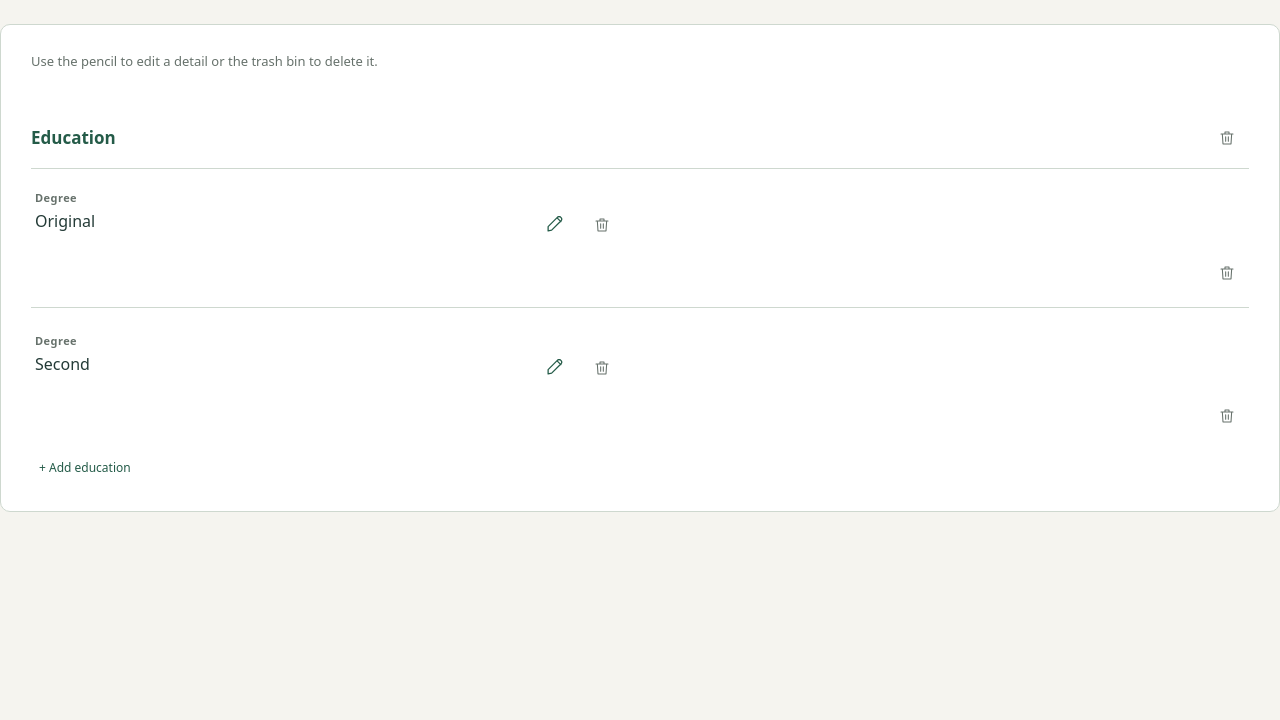
Test case: edits discovered nested fields and adds/removes array entries without disturbing siblings
Click the button named "Edit Degree" in the row of "Original" at coordinates (554, 225), box [532,203,576,247]
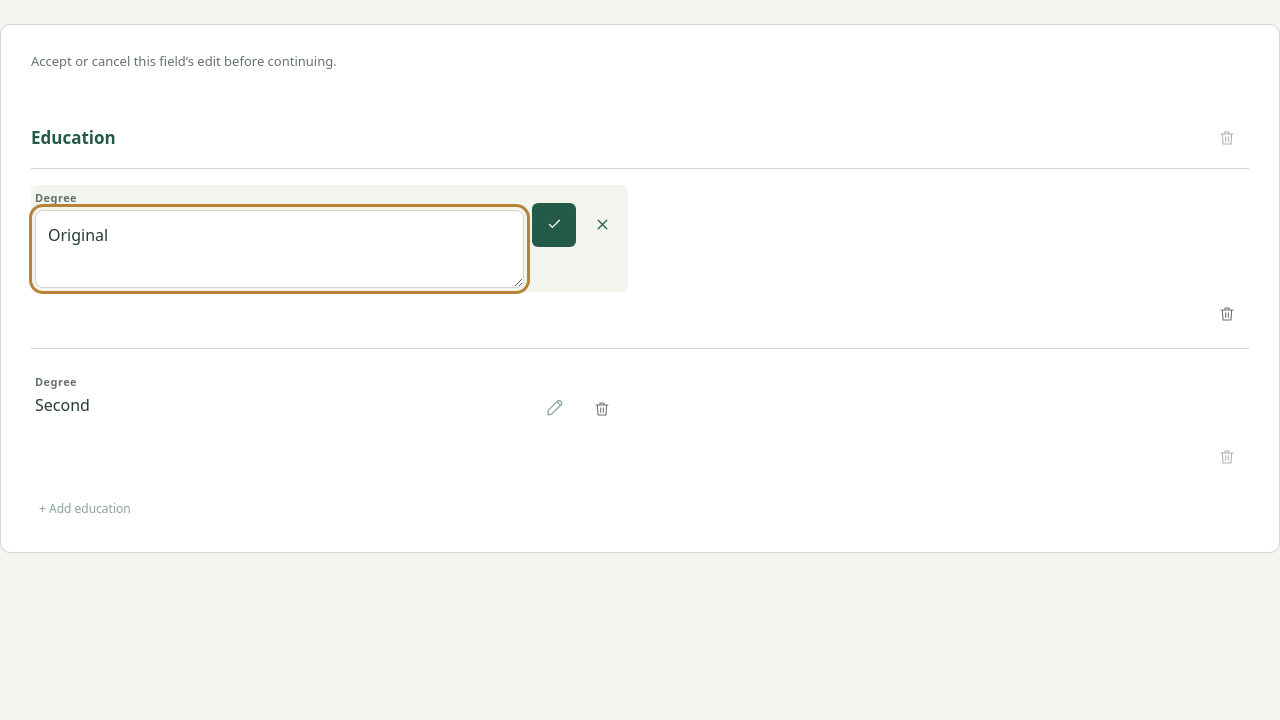
Replace the text in the text box labelled "Degree" with "Corrected" at coordinates (280, 249), box [35,210,524,288]
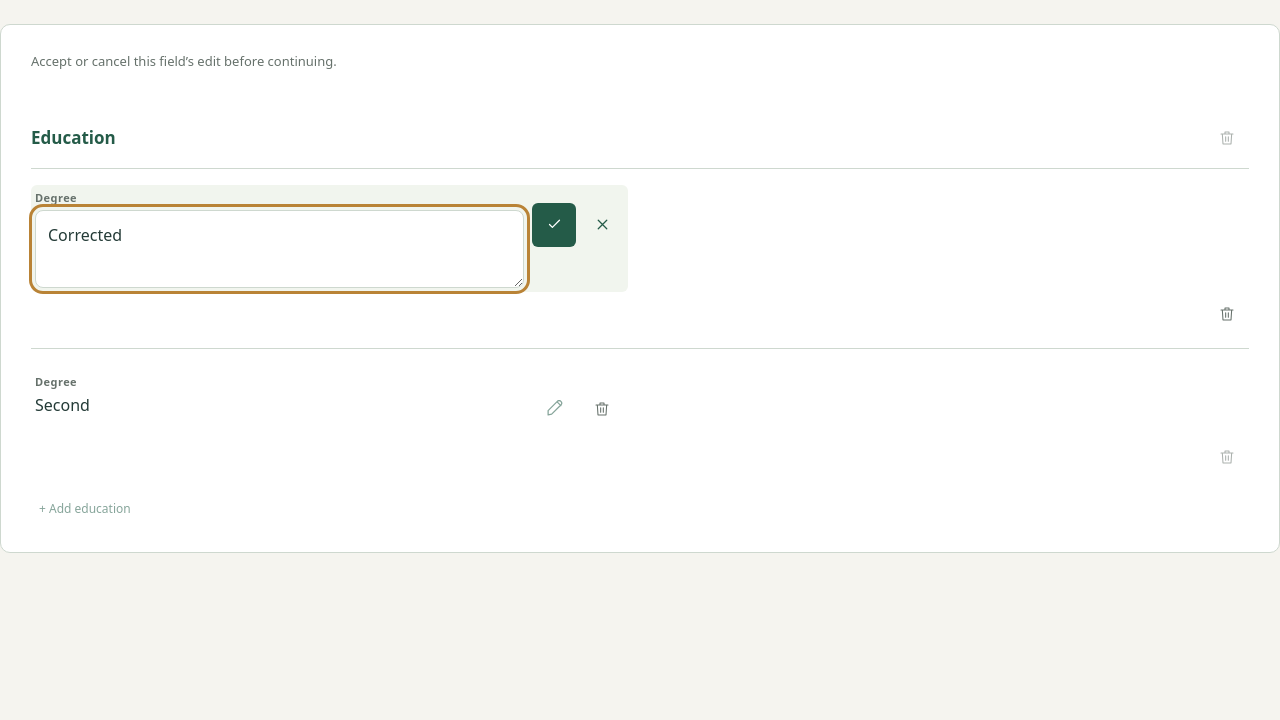
Expected: the button named "Delete Education 1" is disabled, [1205,292,1249,336]
Click the button named "Accept Degree change" at coordinates (554, 225), box [532,203,576,247]
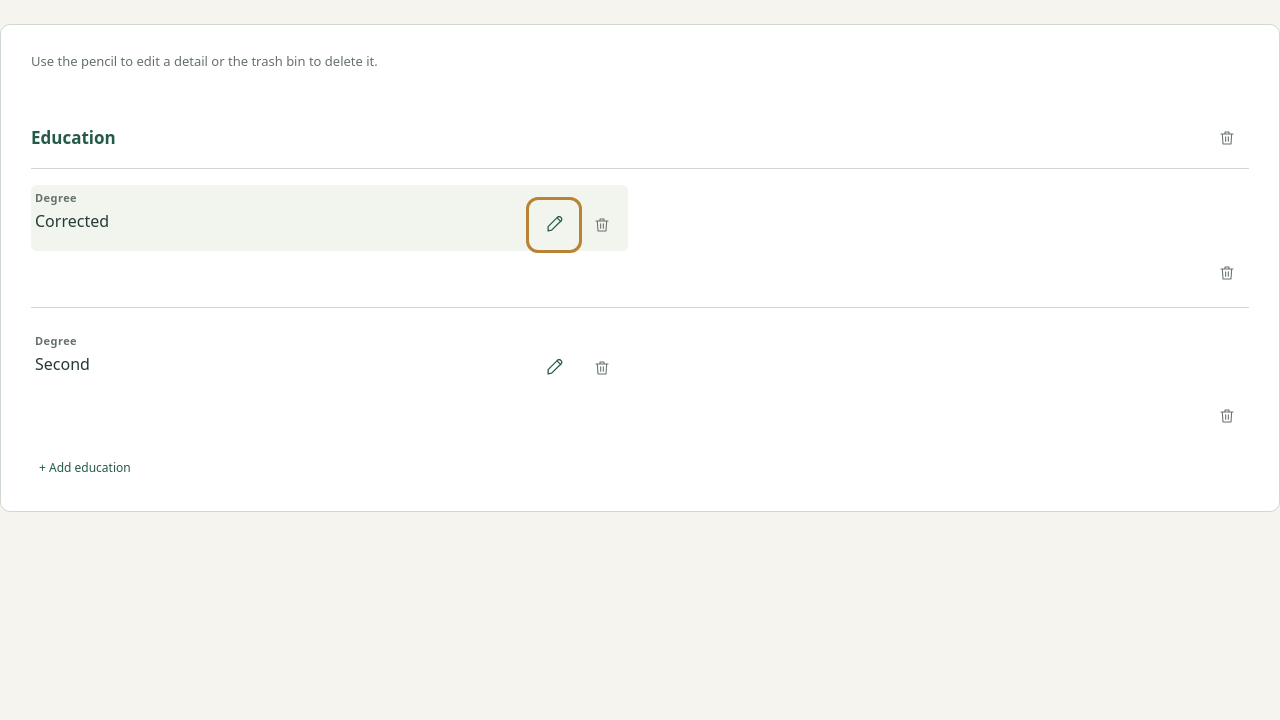
Click the button "+ Add education" at coordinates (85, 467), box [31,454,139,481]
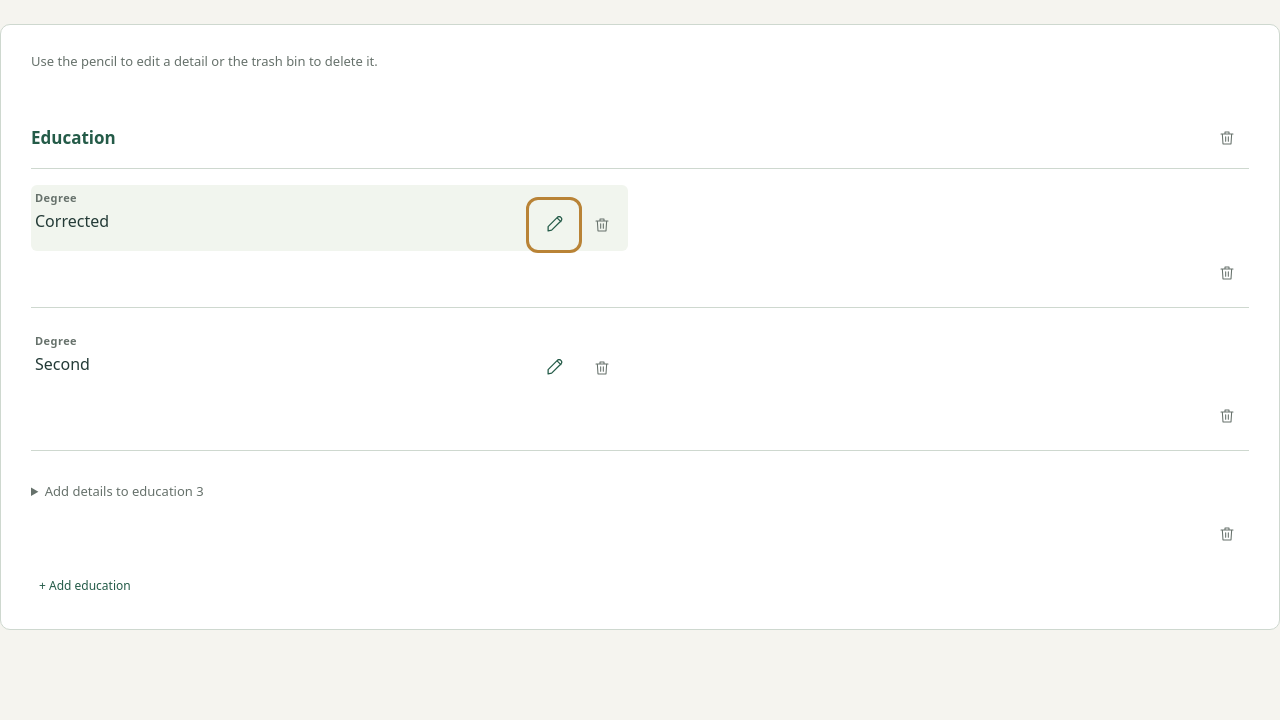
Click the button named "Delete Education 1" at coordinates (1227, 273), box [1205,251,1249,295]
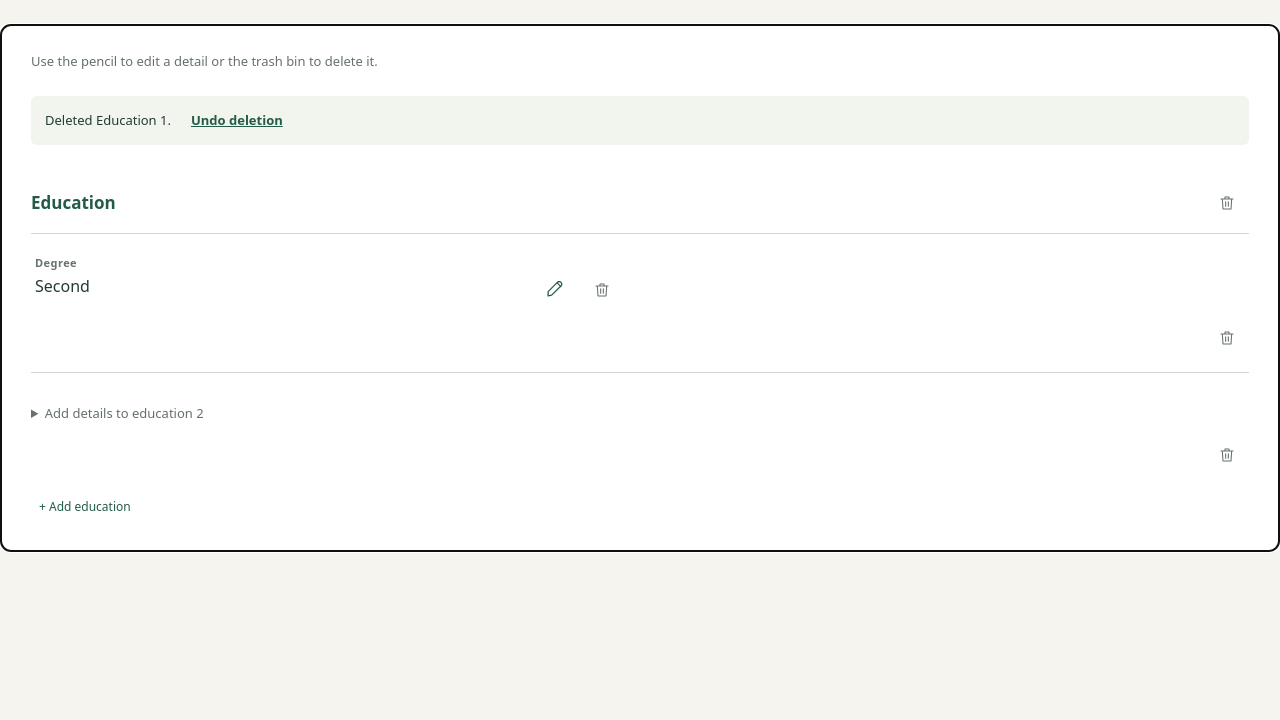
Click the button named "Edit Degree" at coordinates (554, 290), box [532,268,576,312]
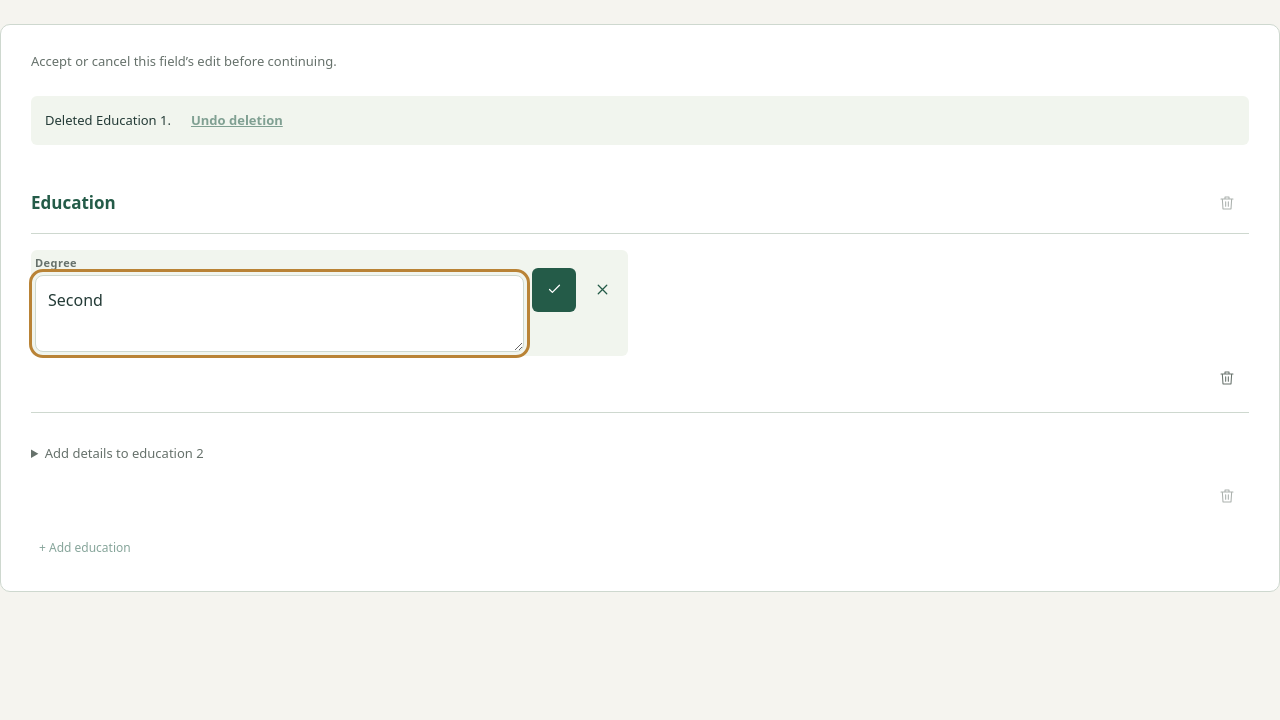
Expected: the text box labelled "Degree" holds "Second", [35,275,524,352]
